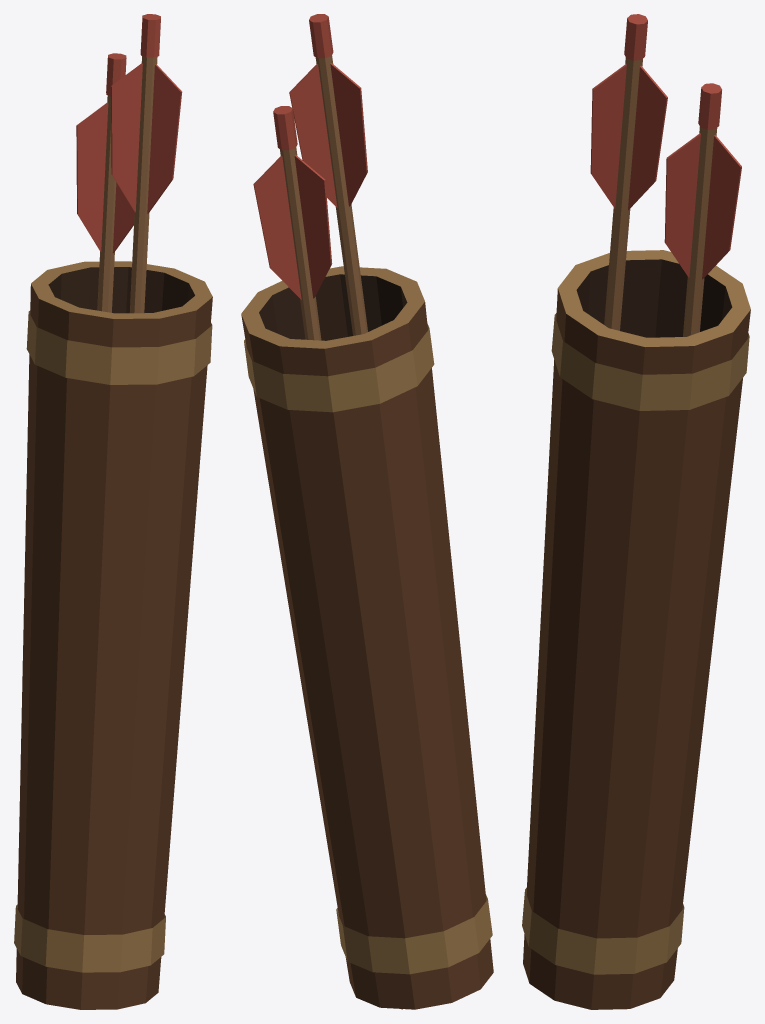
Rendered from Quiver.fbx.
3 renders of one model, left to right at view 1: azimuth 30°, elevation 25°; view 2: azimuth 150°, elevation 25°; view 3: azimuth 270°, elevation 25°, orthographic. The views are drawn at different scales.
Visible parts, largest first — view 1: Quiver_IA_Geometry, Quiver_Arrows_IA_Geometry; view 2: Quiver_IA_Geometry, Quiver_Arrows_IA_Geometry; view 3: Quiver_IA_Geometry, Quiver_Arrows_IA_Geometry.
Boxes of the visible parts, <box> form: Quiver_IA_Geometry: <box>14,261,212,1009</box>; Quiver_Arrows_IA_Geometry: <box>76,14,182,313</box>; Quiver_IA_Geometry: <box>241,266,493,1009</box>; Quiver_Arrows_IA_Geometry: <box>253,14,402,1009</box>; Quiver_IA_Geometry: <box>522,250,750,1009</box>; Quiver_Arrows_IA_Geometry: <box>590,14,741,336</box>.
Bounding box in the file's own units: 0.2105 × 0.9577 × 0.1954.
